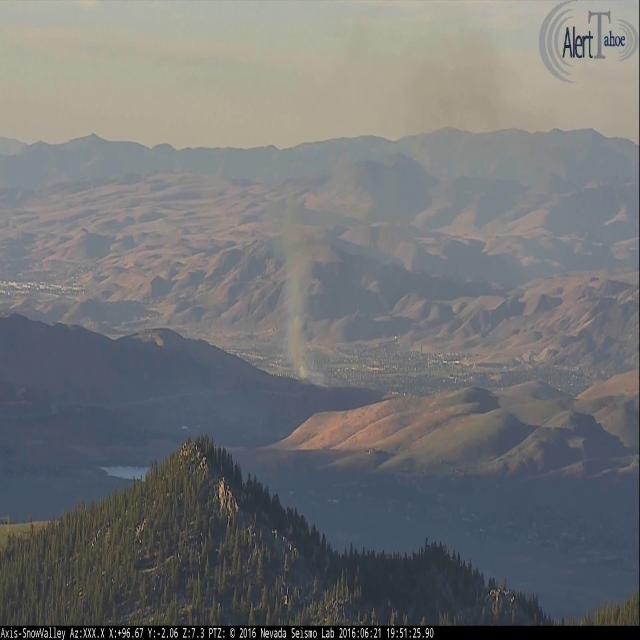smoke: (266, 0, 514, 385)
